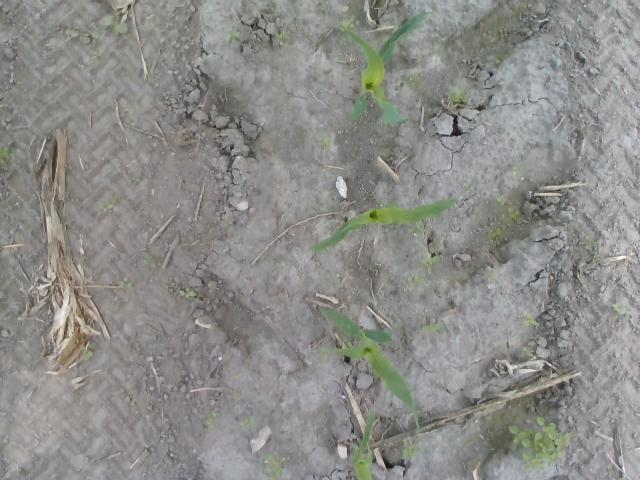Maize: (318, 306, 424, 444), (306, 178, 482, 252), (334, 13, 436, 126), (352, 408, 382, 480)
Weeds: (506, 417, 572, 468), (61, 29, 102, 59), (100, 13, 130, 41), (263, 455, 287, 480), (582, 234, 602, 260), (402, 439, 422, 463), (408, 219, 428, 239), (408, 268, 426, 288), (80, 342, 98, 362), (444, 87, 466, 102), (521, 310, 539, 328), (98, 198, 116, 216), (424, 253, 441, 272), (0, 147, 11, 174), (422, 322, 441, 334), (144, 254, 158, 270), (342, 14, 356, 30), (116, 279, 134, 291), (316, 134, 330, 149), (242, 417, 256, 431), (224, 218, 236, 234), (205, 412, 218, 426), (407, 74, 420, 88), (178, 290, 198, 299), (483, 270, 501, 280), (514, 161, 526, 175), (612, 302, 626, 314), (8, 76, 22, 88), (226, 31, 244, 40), (276, 32, 288, 44), (230, 390, 242, 400), (526, 346, 536, 356), (230, 372, 242, 380), (162, 286, 172, 292)
